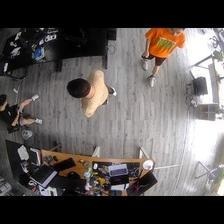normal: (139, 28, 185, 89), (66, 70, 116, 117), (1, 92, 43, 127)
